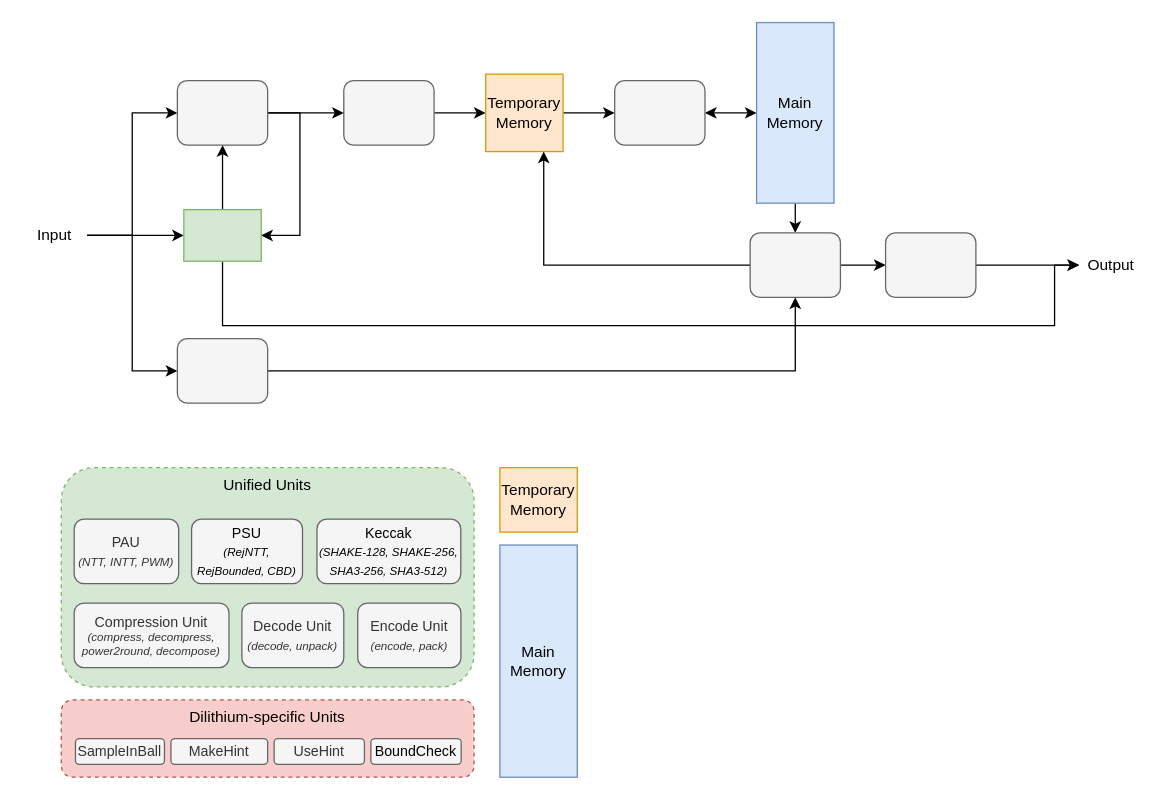
Image size: 1165x800. Some labels were removed from this diagram. The centre of each missing label's shape, as x and y in pixels:
"Compression Unit" belongs at point (794, 264).
"Data" belongs at point (222, 234).
"Decode Unit" belongs at point (222, 370).
"Encode Unit" belongs at point (930, 264).
"Keccak" belongs at point (222, 112).
"PAU" belongs at point (659, 112).
"PSU" belongs at point (388, 112).
